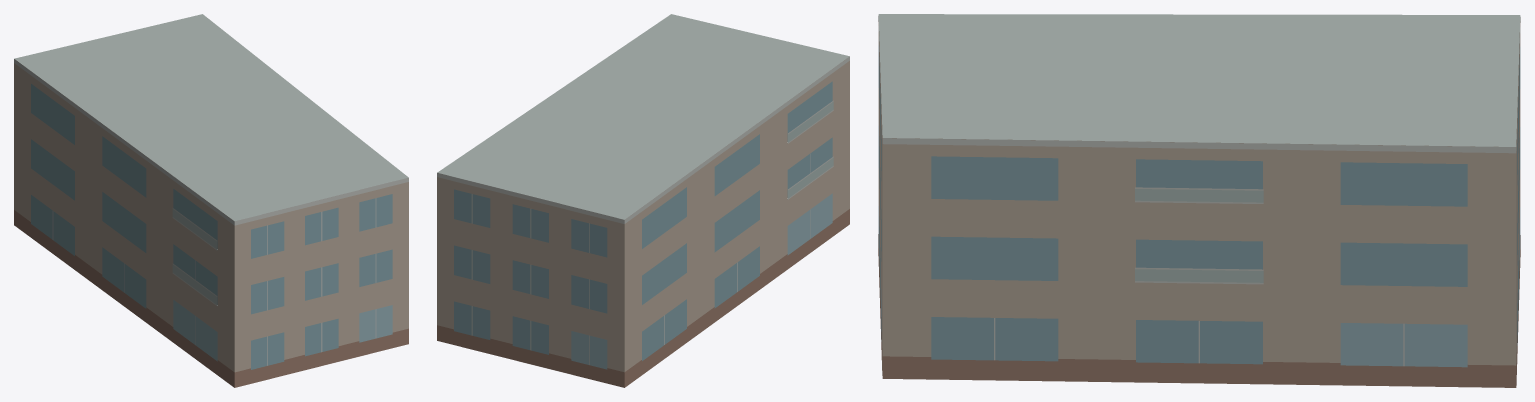
File: survey-upis-33030772.glb
3 views of the same model, side by side, from view 1: azimuth 30°, elevation 25°; view 2: azimuth 150°, elevation 25°; view 3: azimuth 270°, elevation 25° (orthographic). The views are drawn at different scales.
Parts seen in each view (by area): view 1: survey-upis-33030772.tmp; view 2: survey-upis-33030772.tmp; view 3: survey-upis-33030772.tmp.
Part boxes in pixels (left/top/right/bottom): survey-upis-33030772.tmp: left=14, top=14, right=408, bottom=387; survey-upis-33030772.tmp: left=437, top=14, right=849, bottom=387; survey-upis-33030772.tmp: left=878, top=14, right=1520, bottom=387.
Bounding box in the file's own units: 11.23 × 9.45 × 22.83.
